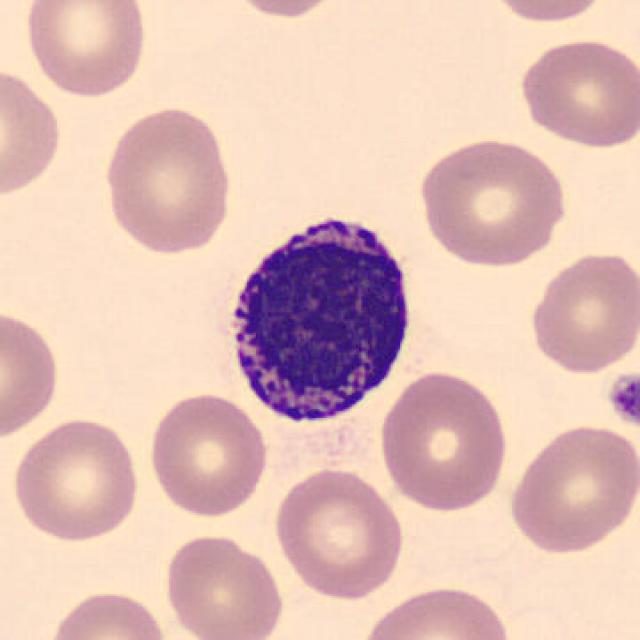Basophil: (210, 199, 423, 434)
Platelets: (604, 369, 640, 430)
RBC: (412, 132, 572, 270), (98, 100, 236, 258), (375, 367, 512, 515), (269, 464, 407, 603), (505, 420, 638, 556), (7, 414, 144, 545), (144, 390, 272, 520), (524, 247, 638, 377), (514, 34, 638, 152), (160, 530, 288, 640), (19, 0, 151, 100), (356, 580, 516, 640), (0, 61, 66, 202), (0, 302, 64, 446), (42, 587, 170, 640), (480, 0, 615, 26), (213, 0, 351, 19)
